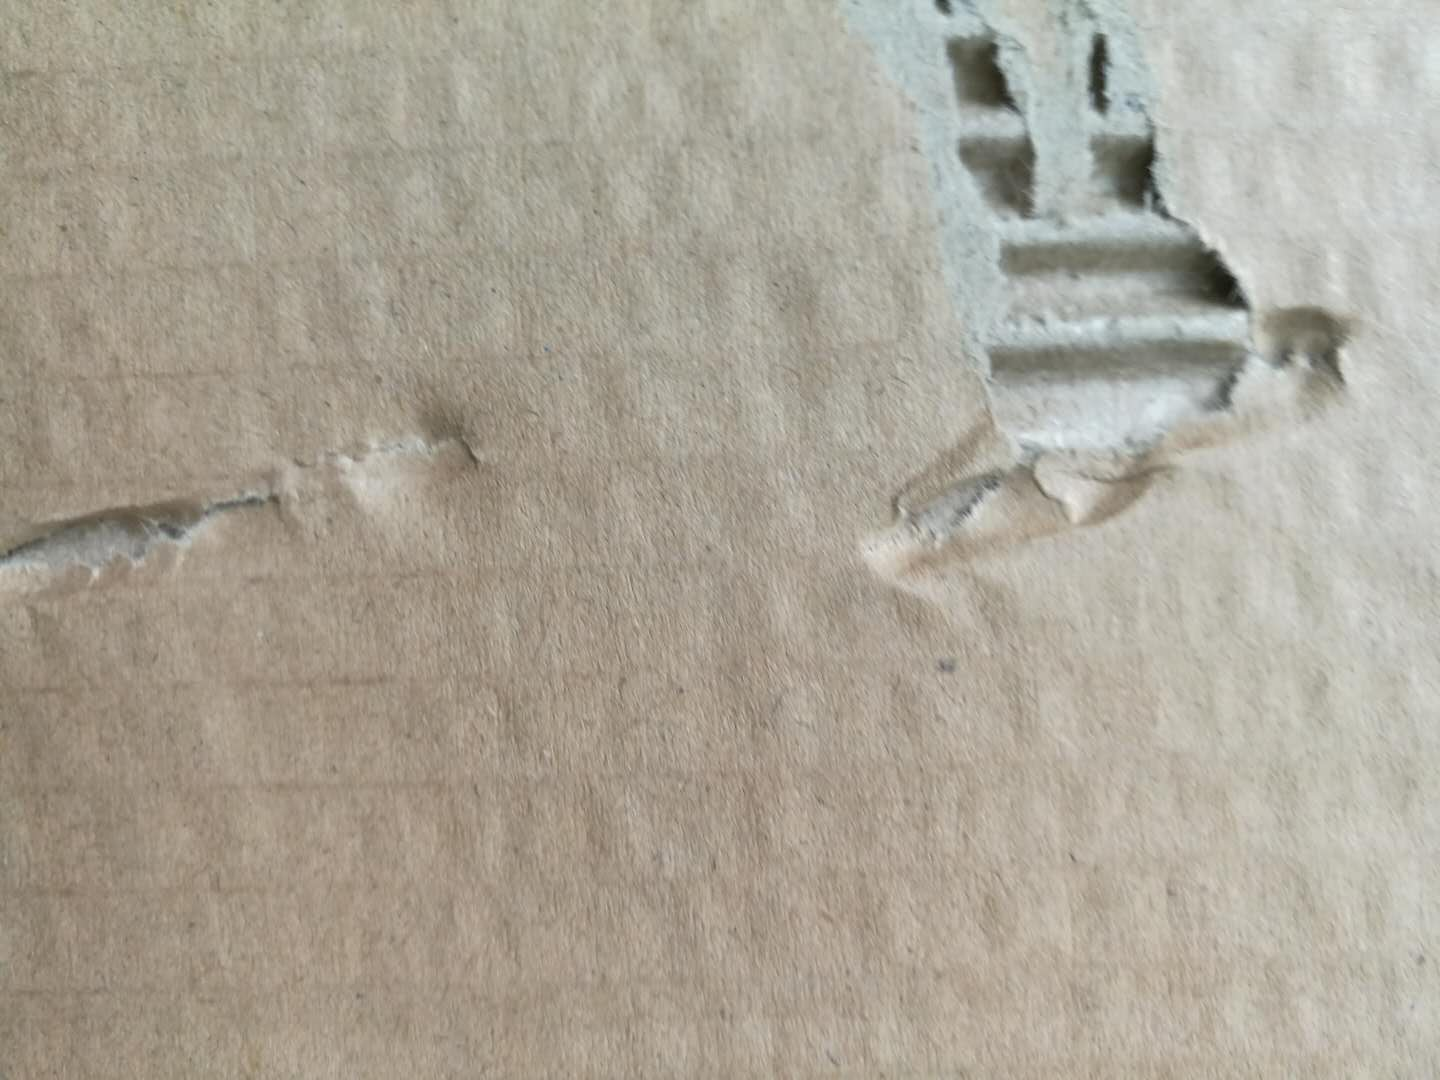defect: (794, 2, 1418, 647), (1, 377, 527, 621)
